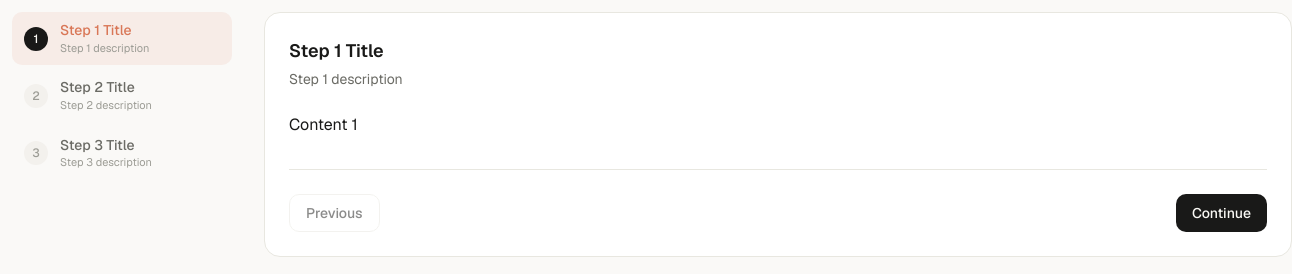
Scenario: FormWizard › clicking Previous goes back one step
Click the button "Continue" at (1221, 213), box [1176,194,1267,232]
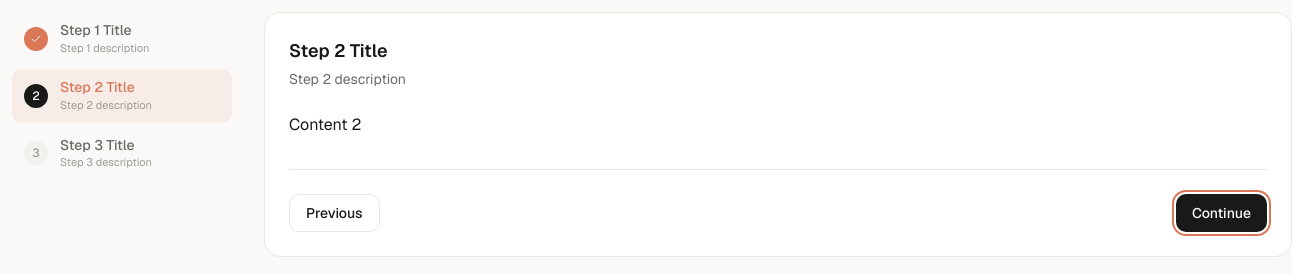
Click the button "Previous" at (334, 213), box [289,194,380,232]
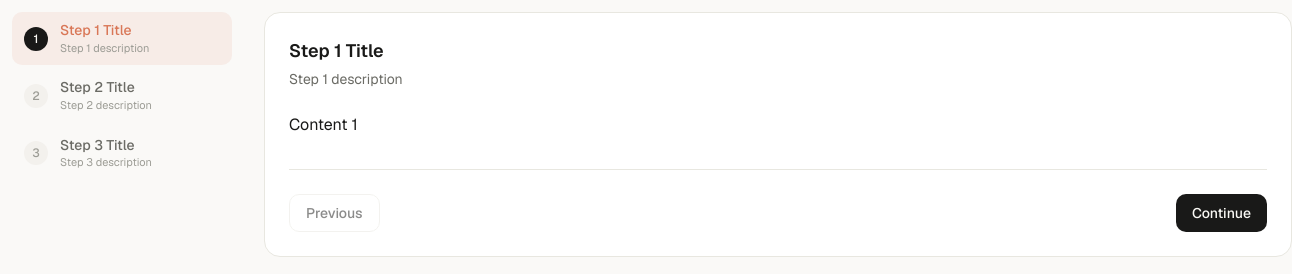
Check: the heading "Step 1 Title" is shown, box [289,39,384,62]
